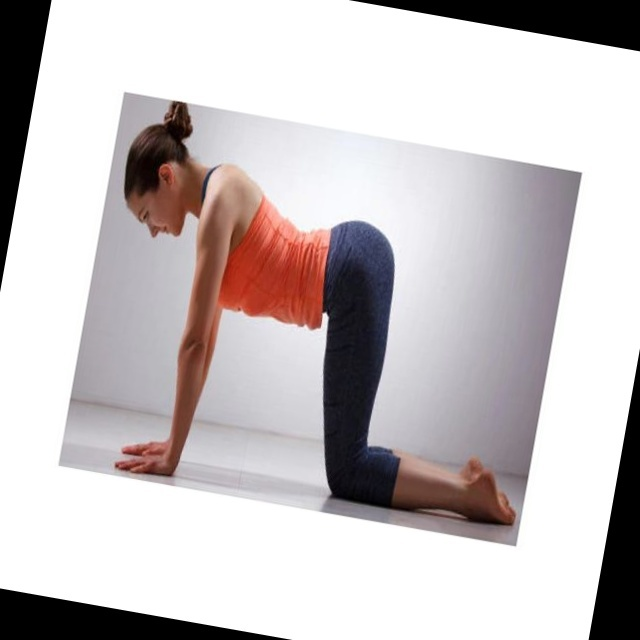Cow_Pose: (114, 123, 518, 532)
